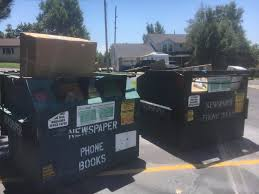Dumpster: (1, 69, 141, 183), (135, 67, 253, 144)
